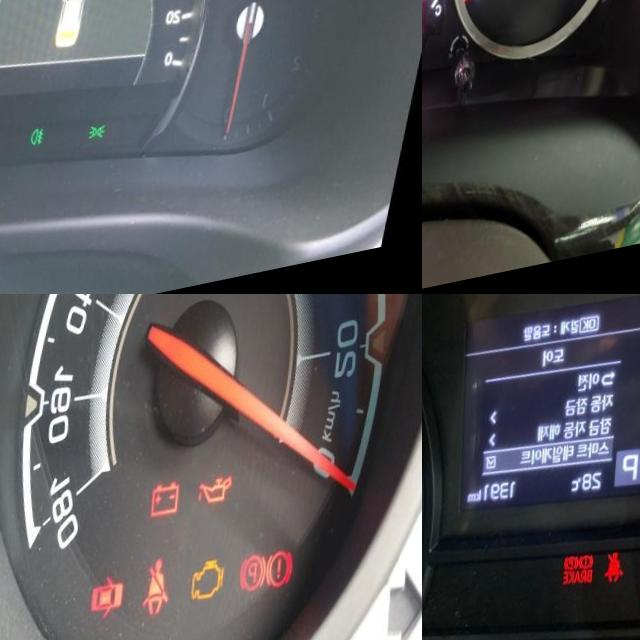Doors: (98, 577, 133, 630)
FrontFogLight: (37, 134, 53, 157)
SideLamp: (96, 134, 115, 154)
